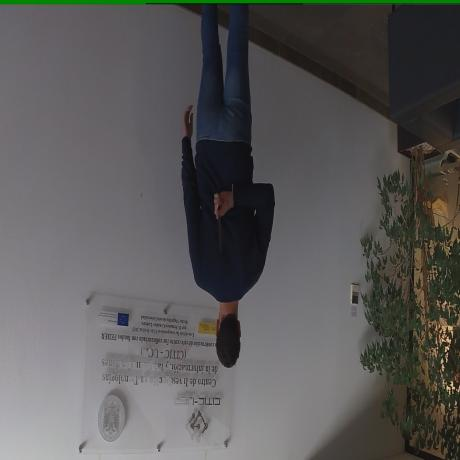1: (176, 1, 278, 372)
weapon: (214, 192, 222, 252)
